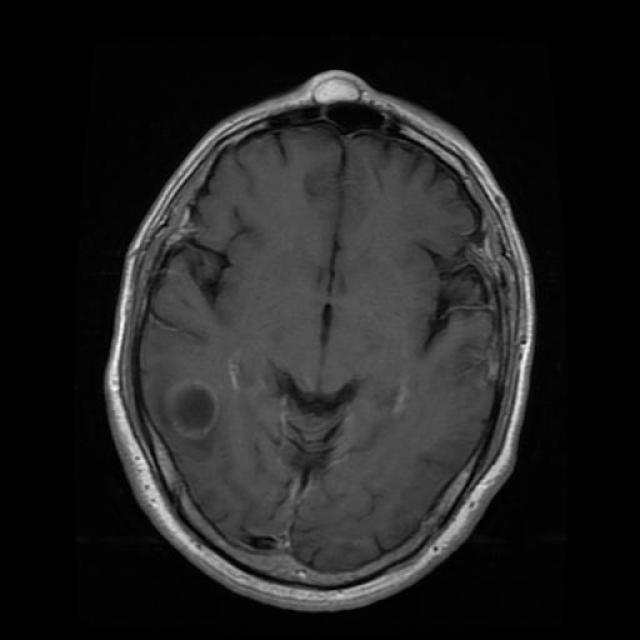brain_tumor: (310, 172, 370, 230), (180, 385, 216, 438)
